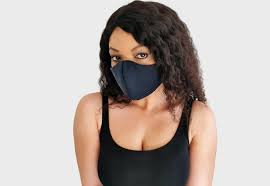with-mask: (98, 8, 184, 100)
